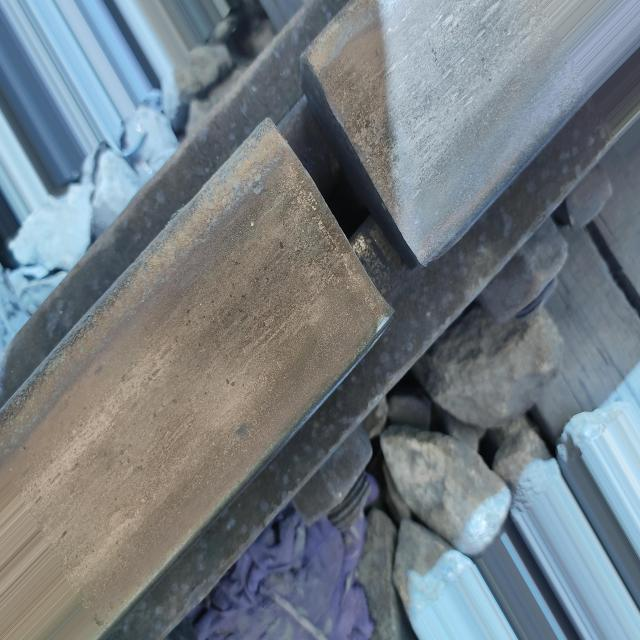crack: (238, 23, 447, 387)
